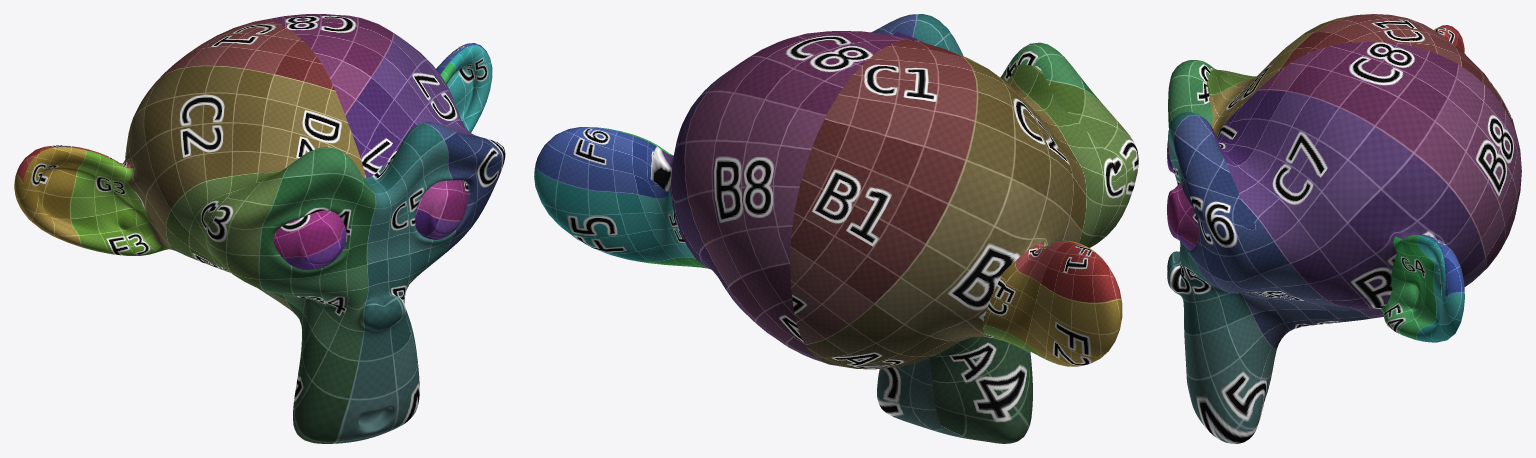
The model's file is Monkey_textured.obj.
3 views of the same model, side by side, from view 1: azimuth 30°, elevation 25°; view 2: azimuth 150°, elevation 25°; view 3: azimuth 270°, elevation 25° (orthographic). The views are drawn at different scales.
Visible parts, largest first — view 1: Suzanne; view 2: Suzanne; view 3: Suzanne.
Boxes of the visible parts, left/top/right/bottom form: Suzanne: left=14, top=14, right=505, bottom=443; Suzanne: left=534, top=14, right=1138, bottom=443; Suzanne: left=1167, top=14, right=1521, bottom=443.
Size of the model in its own units: 2.66 by 1.91 by 1.6.
